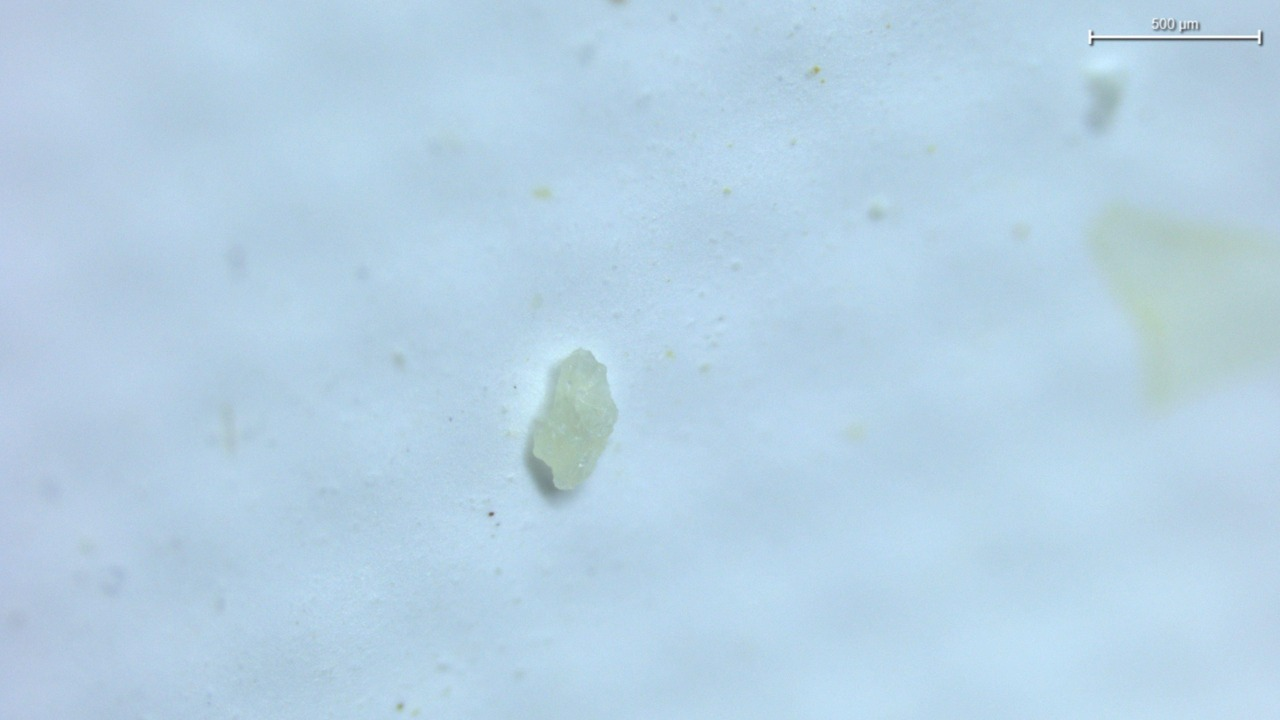microplastic_fragment: (530, 349, 617, 490)
